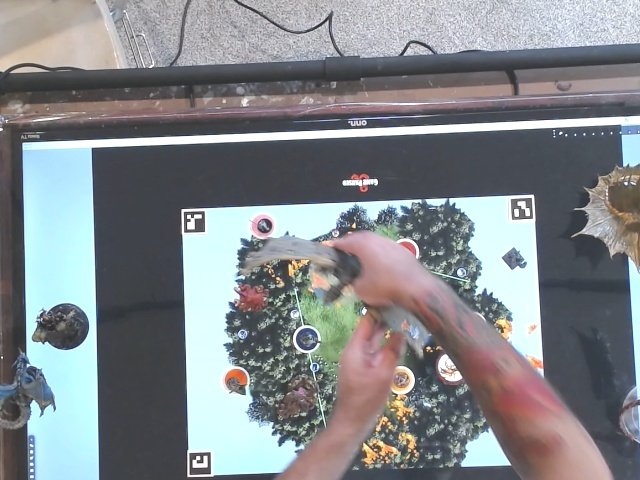blue: (289, 323, 319, 354)
orange: (218, 361, 255, 398)
pink: (246, 213, 278, 240)
red: (390, 236, 425, 267)
yellow: (383, 363, 417, 397)
